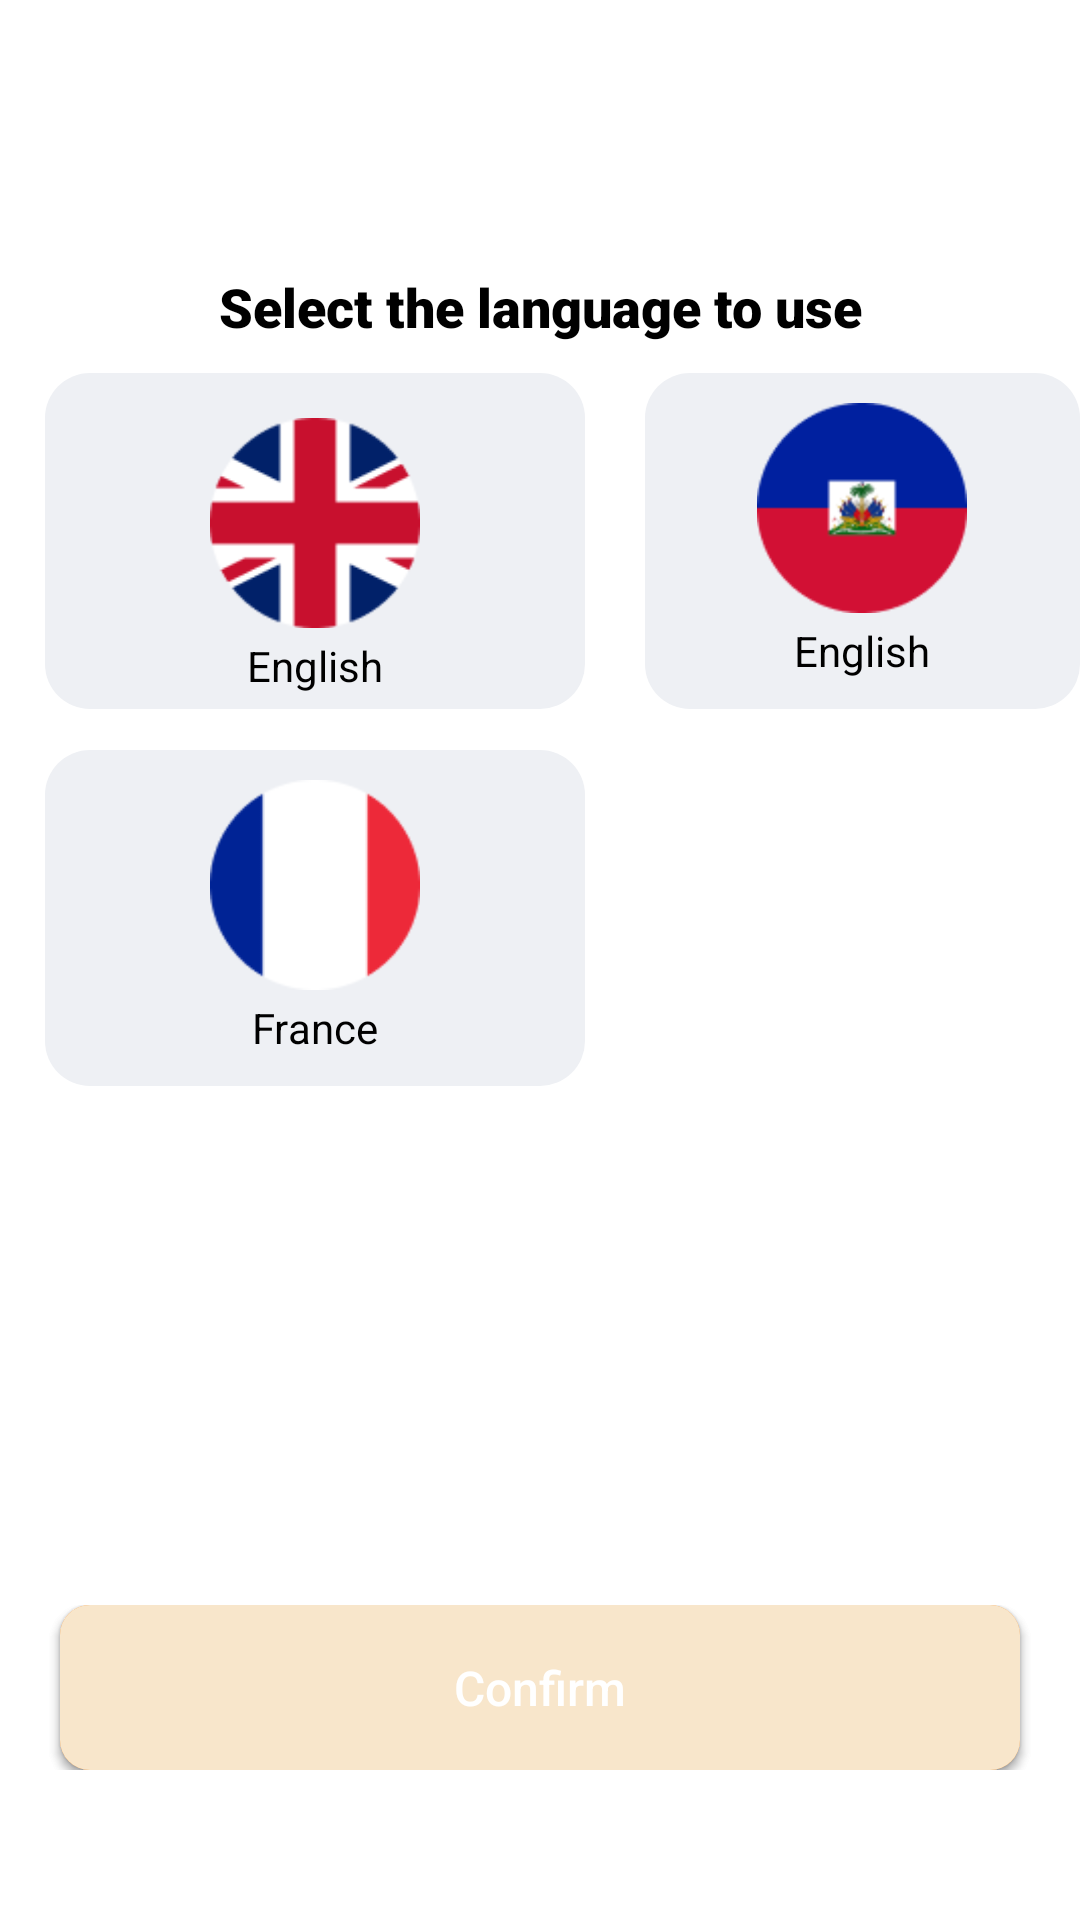

Screen size 1080px x 1920px. Icon name, then its center in pixels as (x=x, y=y):
ob creole: (x=862, y=508)
